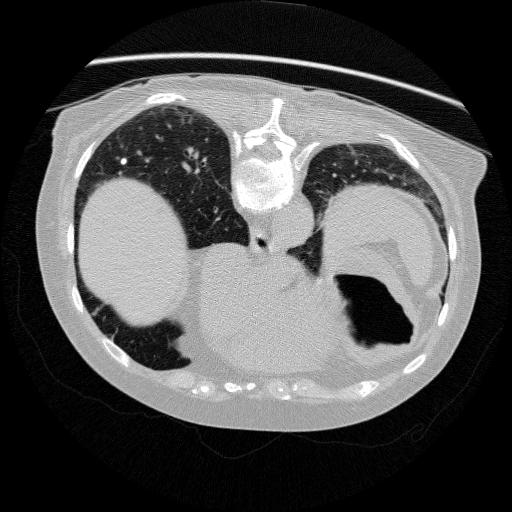nodule: (116, 156, 129, 169)
